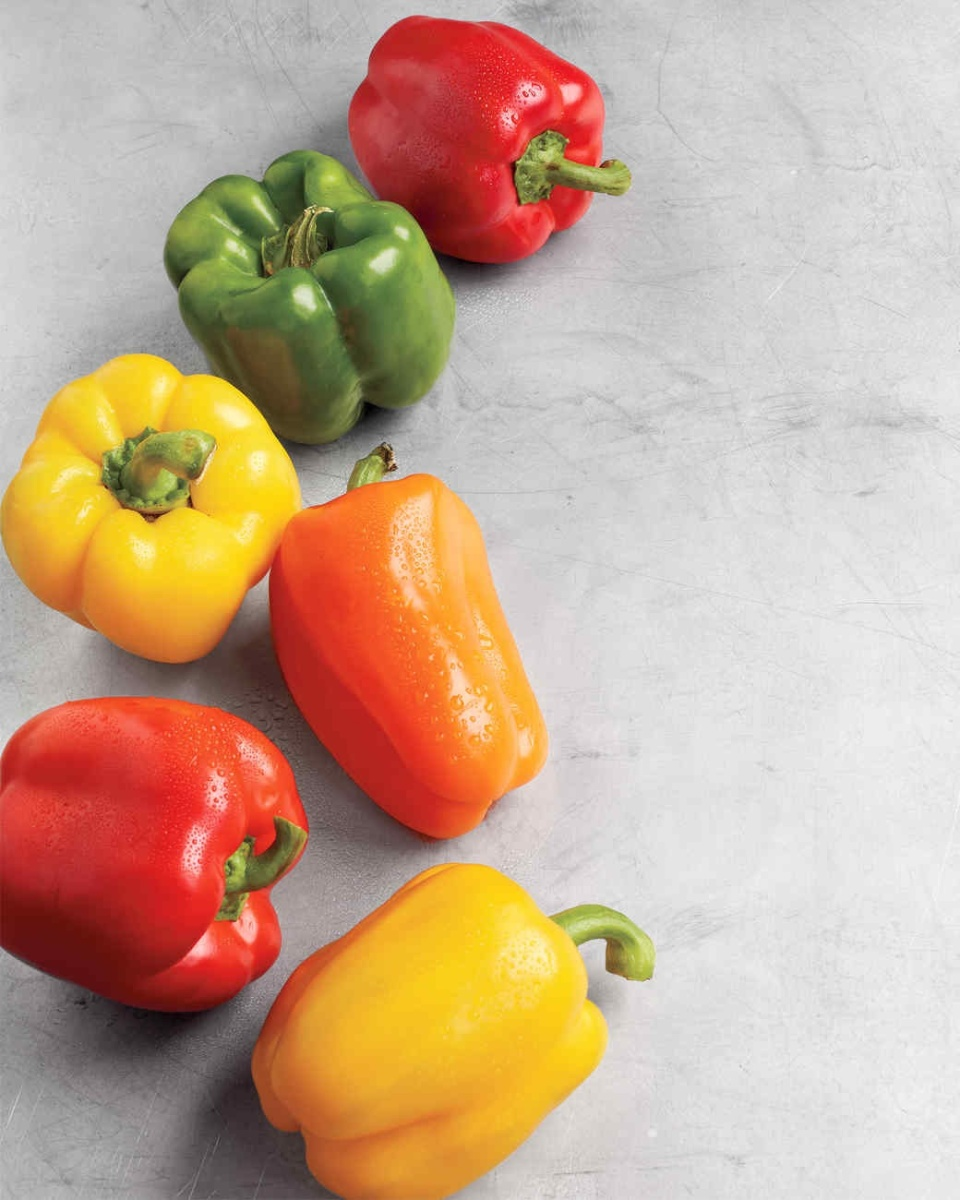fruit: (250, 857, 612, 1200), (264, 469, 549, 839), (0, 693, 309, 1014), (0, 349, 300, 660), (163, 146, 456, 451), (348, 12, 606, 264)
pedicle: (100, 425, 218, 512), (506, 126, 567, 202), (259, 226, 335, 276), (216, 835, 250, 925)
